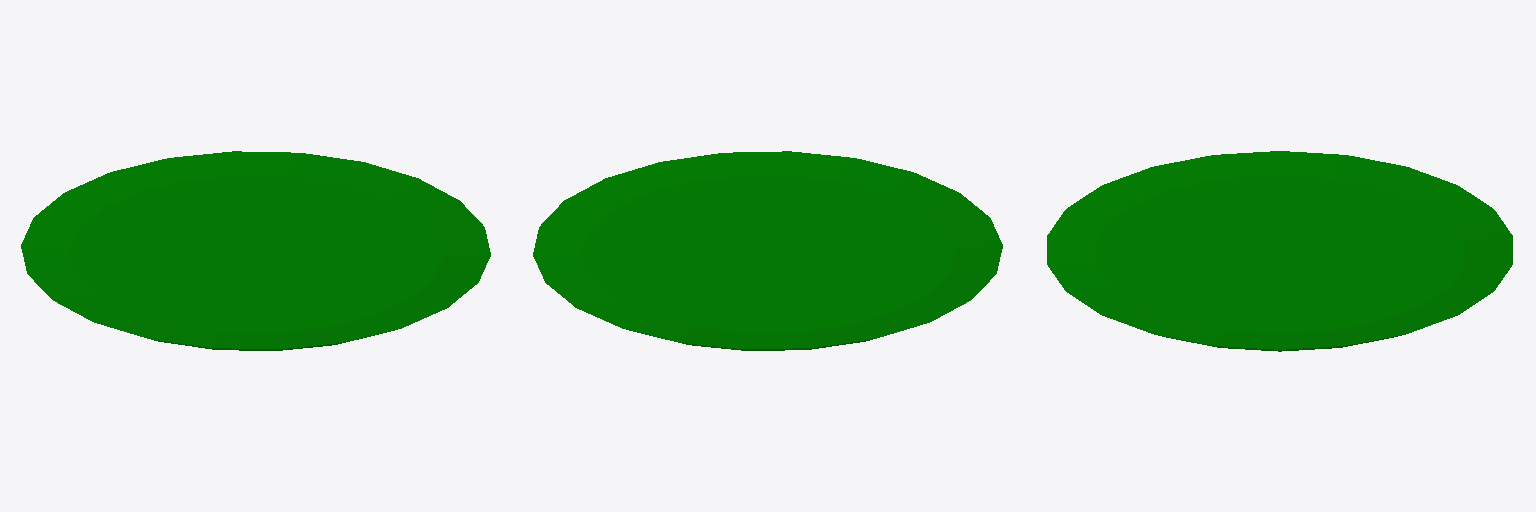
The model's file is plate2.obj.
3 renders of one model, left to right at view 1: azimuth 30°, elevation 25°; view 2: azimuth 150°, elevation 25°; view 3: azimuth 270°, elevation 25°, orthographic.
Visible parts, largest first — view 1: Cylinder001; view 2: Cylinder001; view 3: Cylinder001.
Boxes of the visible parts, x1=… form: Cylinder001: x1=21, y1=151, x2=490, y2=350; Cylinder001: x1=533, y1=151, x2=1002, y2=350; Cylinder001: x1=1047, y1=151, x2=1512, y2=351.
Bounding box in the file's own units: 70.73 × 1.86 × 70.01.